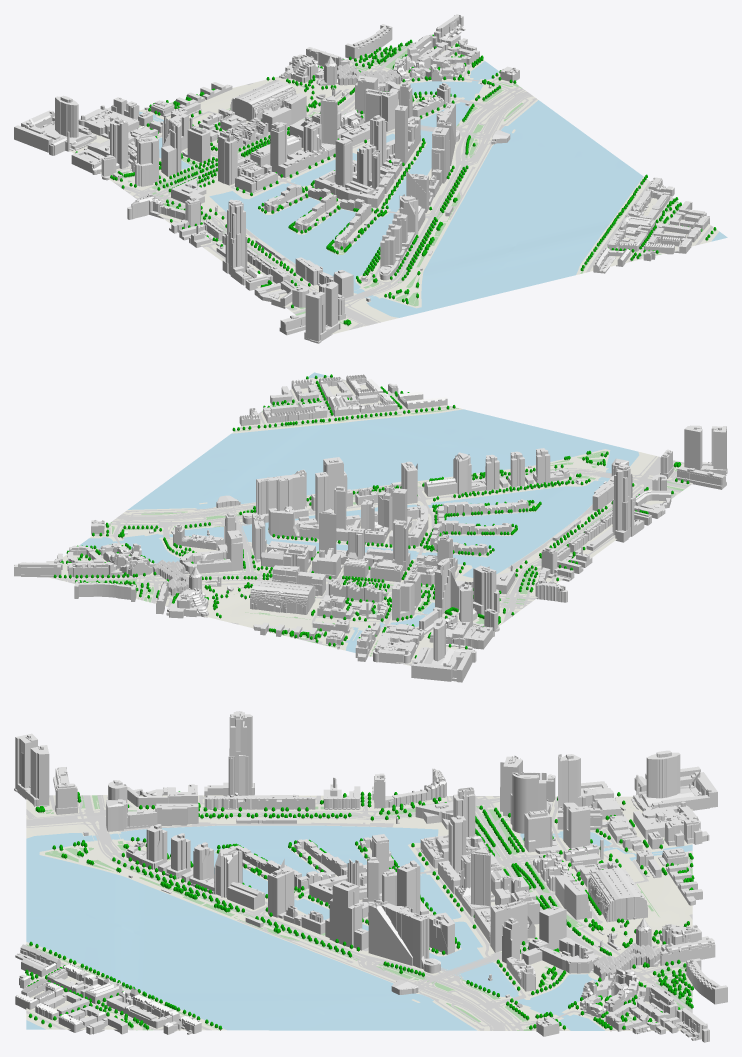
Rendered from map_v1.glb.
The picture shows the model from 3 angles, top to bottom: view 1: azimuth 30°, elevation 25°; view 2: azimuth 150°, elevation 25°; view 3: azimuth 270°, elevation 25°; orthographic projection. The views are drawn at different scales.
Visible parts, largest first — view 1: TPX_Ground_0, TPX_Waterways_1_33, TPX_Waterways_1_25, TPX_Waterways_1_32, TPX_Waterways_1_1, TPX_Waterways_1_28, TPX_Buildings_71, TPX_Buildings_92, TPX_Buildings_81, TPX_Buildings_29, TPX_Buildings_169, TPX_Waterways_1_26 (+33 smaller); view 2: TPX_Ground_0, TPX_Waterways_1_33, TPX_Waterways_1_32, TPX_Waterways_1_25, TPX_Waterways_1_1, TPX_Waterways_1_28, TPX_Buildings_71, TPX_Buildings_275, TPX_Buildings_29, TPX_Buildings_92, TPX_Buildings_274, TPX_Buildings_169 (+42 smaller); view 3: TPX_Ground_0, TPX_Waterways_1_33, TPX_Waterways_1_25, TPX_Waterways_1_32, TPX_Waterways_1_1, TPX_Waterways_1_28, TPX_Buildings_71, TPX_Buildings_275, TPX_Buildings_29, TPX_Buildings_92, TPX_Buildings_306, TPX_Buildings_87 (+47 smaller).
Part boxes in pixels (<box>): TPX_Ground_0: <box>69,37,718,334</box>; TPX_Waterways_1_33: <box>452,100,588,225</box>; TPX_Waterways_1_25: <box>421,220,527,312</box>; TPX_Waterways_1_32: <box>499,209,613,293</box>; TPX_Waterways_1_1: <box>538,137,643,218</box>; TPX_Waterways_1_28: <box>209,191,360,290</box>; TPX_Buildings_71: <box>14,95,96,155</box>; TPX_Buildings_92: <box>304,281,341,343</box>; TPX_Buildings_81: <box>71,119,128,174</box>; TPX_Buildings_29: <box>230,80,296,121</box>; TPX_Buildings_169: <box>222,199,245,279</box>; TPX_Waterways_1_26: <box>338,214,393,276</box>; TPX_Ground_0: <box>49,376,692,665</box>; TPX_Waterways_1_33: <box>128,451,401,509</box>; TPX_Waterways_1_32: <box>330,409,538,455</box>; TPX_Waterways_1_25: <box>388,427,614,480</box>; TPX_Waterways_1_1: <box>178,424,349,473</box>; TPX_Waterways_1_28: <box>462,480,607,577</box>; TPX_Buildings_71: <box>411,617,476,682</box>; TPX_Buildings_275: <box>242,469,308,524</box>; TPX_Buildings_29: <box>250,579,315,614</box>; TPX_Buildings_92: <box>684,425,727,475</box>; TPX_Buildings_274: <box>268,472,328,537</box>; TPX_Buildings_169: <box>614,464,636,542</box>; TPX_Ground_0: <box>26,795,692,1030</box>; TPX_Waterways_1_33: <box>176,921,476,1030</box>; TPX_Waterways_1_25: <box>26,852,234,950</box>; TPX_Waterways_1_32: <box>26,897,209,992</box>; TPX_Waterways_1_1: <box>145,965,356,1030</box>; TPX_Waterways_1_28: <box>119,825,438,849</box>; TPX_Buildings_71: <box>632,750,717,811</box>; TPX_Buildings_275: <box>368,901,440,973</box>; TPX_Buildings_29: <box>588,868,647,922</box>; TPX_Buildings_92: <box>14,733,49,806</box>; TPX_Buildings_306: <box>325,880,368,950</box>; TPX_Buildings_87: <box>106,799,198,831</box>.
Bounding box in the file's own units: 1029 × 165 × 1181.
